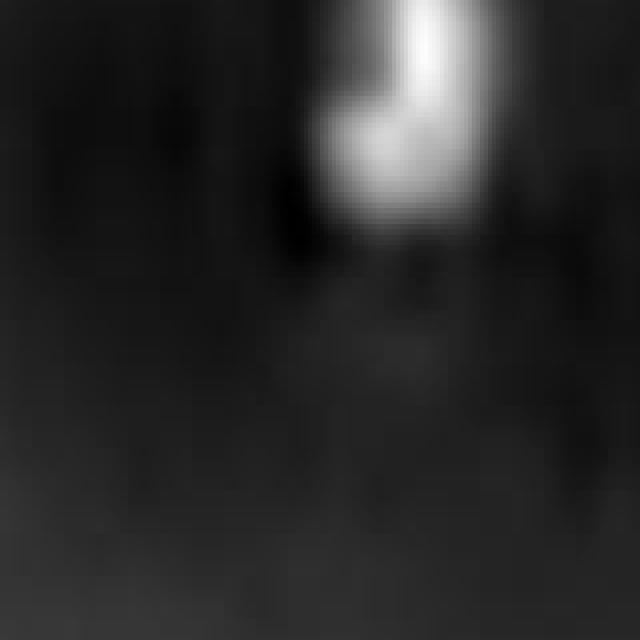person: (305, 1, 509, 337)
